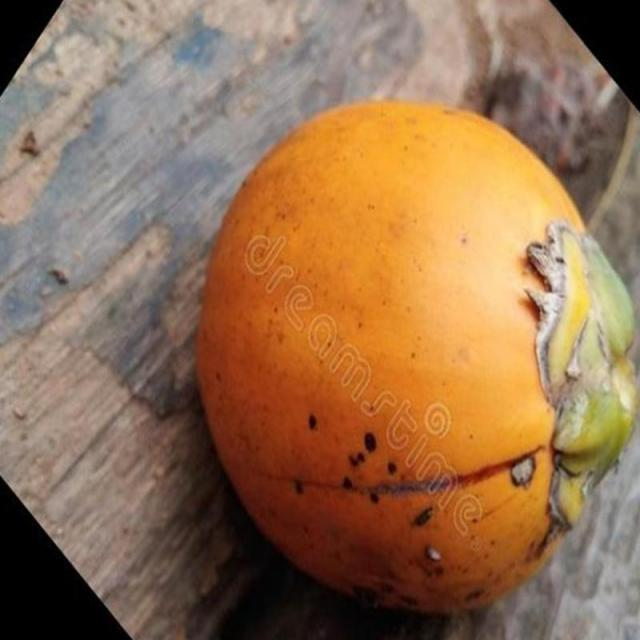good: (194, 101, 639, 619)
